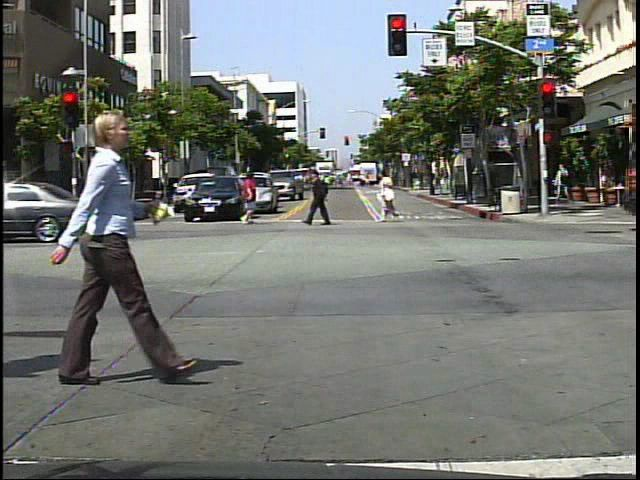person: (40, 91, 180, 402), (305, 157, 343, 232), (374, 163, 405, 227), (231, 168, 264, 227), (554, 160, 576, 204)
